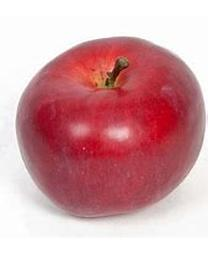apple: (14, 36, 205, 218)
